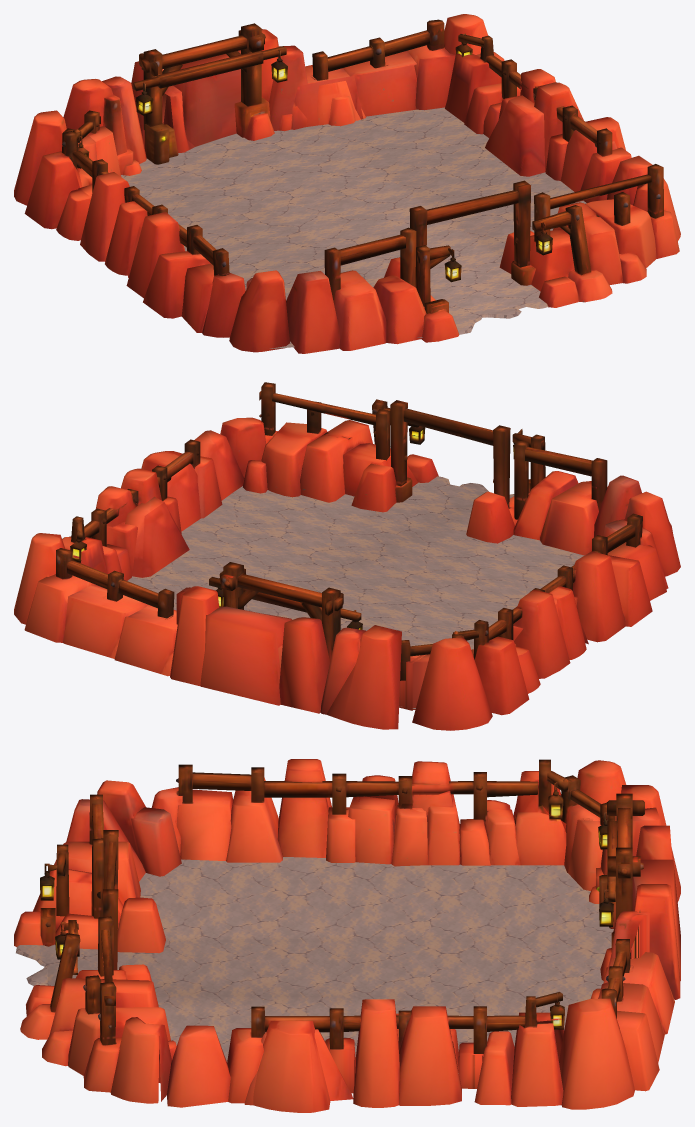
Rendered from mining-pool.glb.
3 renders of one model, top to bottom at view 1: azimuth 30°, elevation 25°; view 2: azimuth 150°, elevation 25°; view 3: azimuth 270°, elevation 25°, orthographic. The views are drawn at different scales.
Visible parts, largest first — view 1: Mining_pool, Mining_pool.001; view 2: Mining_pool, Mining_pool.001; view 3: Mining_pool, Mining_pool.001.
Part boxes in pixels (box(x1,y1,x2,y2)): Mining_pool: box(14, 14, 680, 353); Mining_pool.001: box(121, 107, 586, 348); Mining_pool: box(14, 382, 680, 730); Mining_pool.001: box(127, 476, 584, 708); Mining_pool: box(14, 759, 680, 1112); Mining_pool.001: box(16, 857, 613, 1073).
Size of what is drawn, in the model's own units: 29.93 by 6.33 by 29.82.
Materials: 2 (2 with a texture image).
